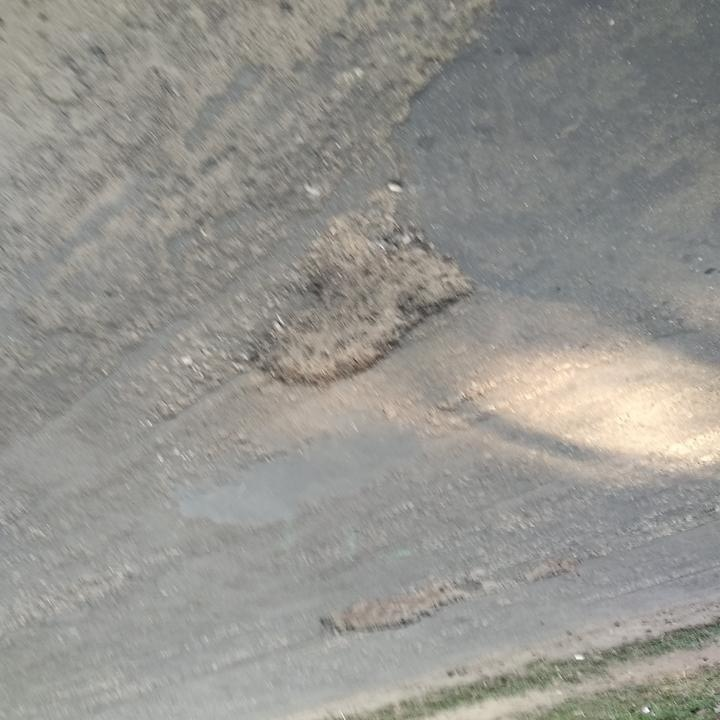pothole: (245, 204, 484, 396), (316, 583, 472, 639)
